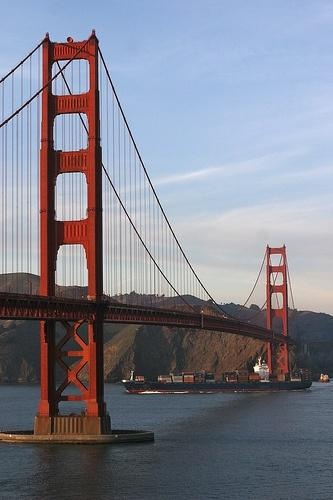boat: (121, 356, 314, 394)
